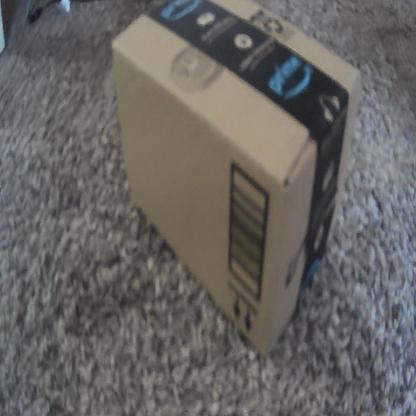package: (106, 0, 364, 365)
